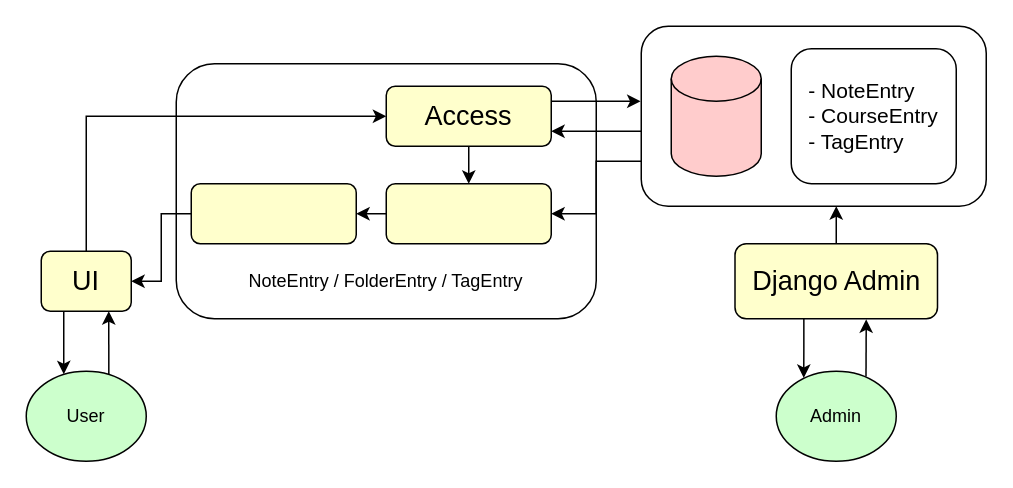
Some shapes in this 1013 by 488 pixel diagram are drawn without their labels. Each missing label, with the centre of its shape:
DB: point 715,115
Filter: point 468,213
Visualize: point 273,213
